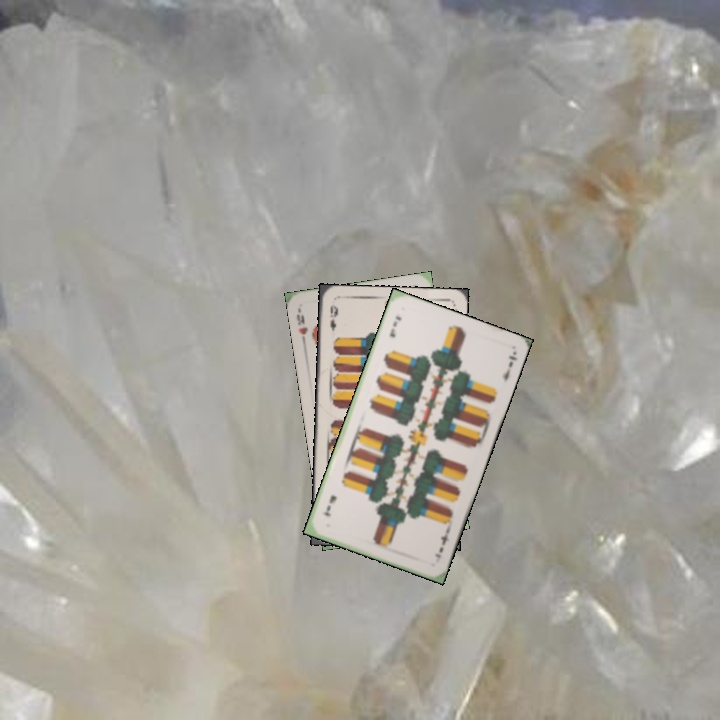E7: (430, 525, 452, 561), (385, 311, 404, 340)
E9: (326, 300, 340, 334)
H9: (293, 310, 310, 346)
